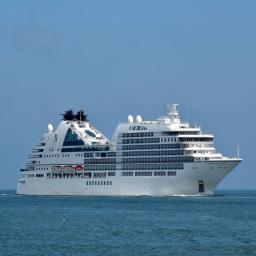cruises: (15, 102, 245, 204)
